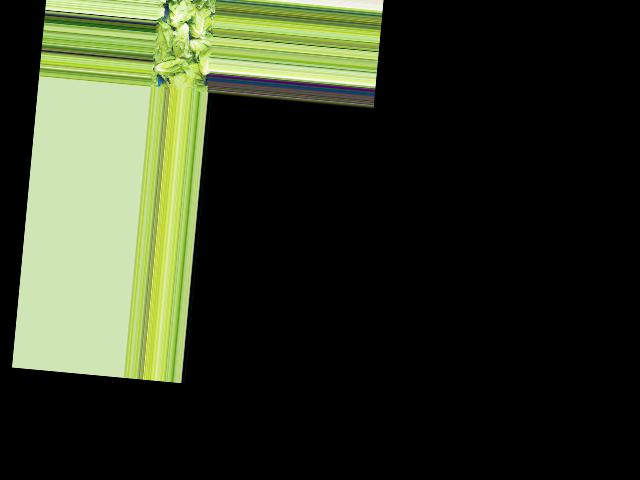lettuce: (195, 44, 211, 80)
